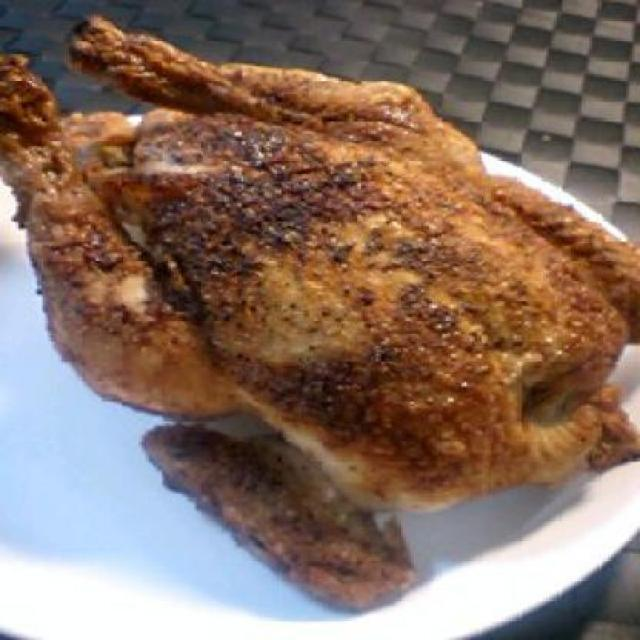Chicken roast: (10, 45, 638, 590)
